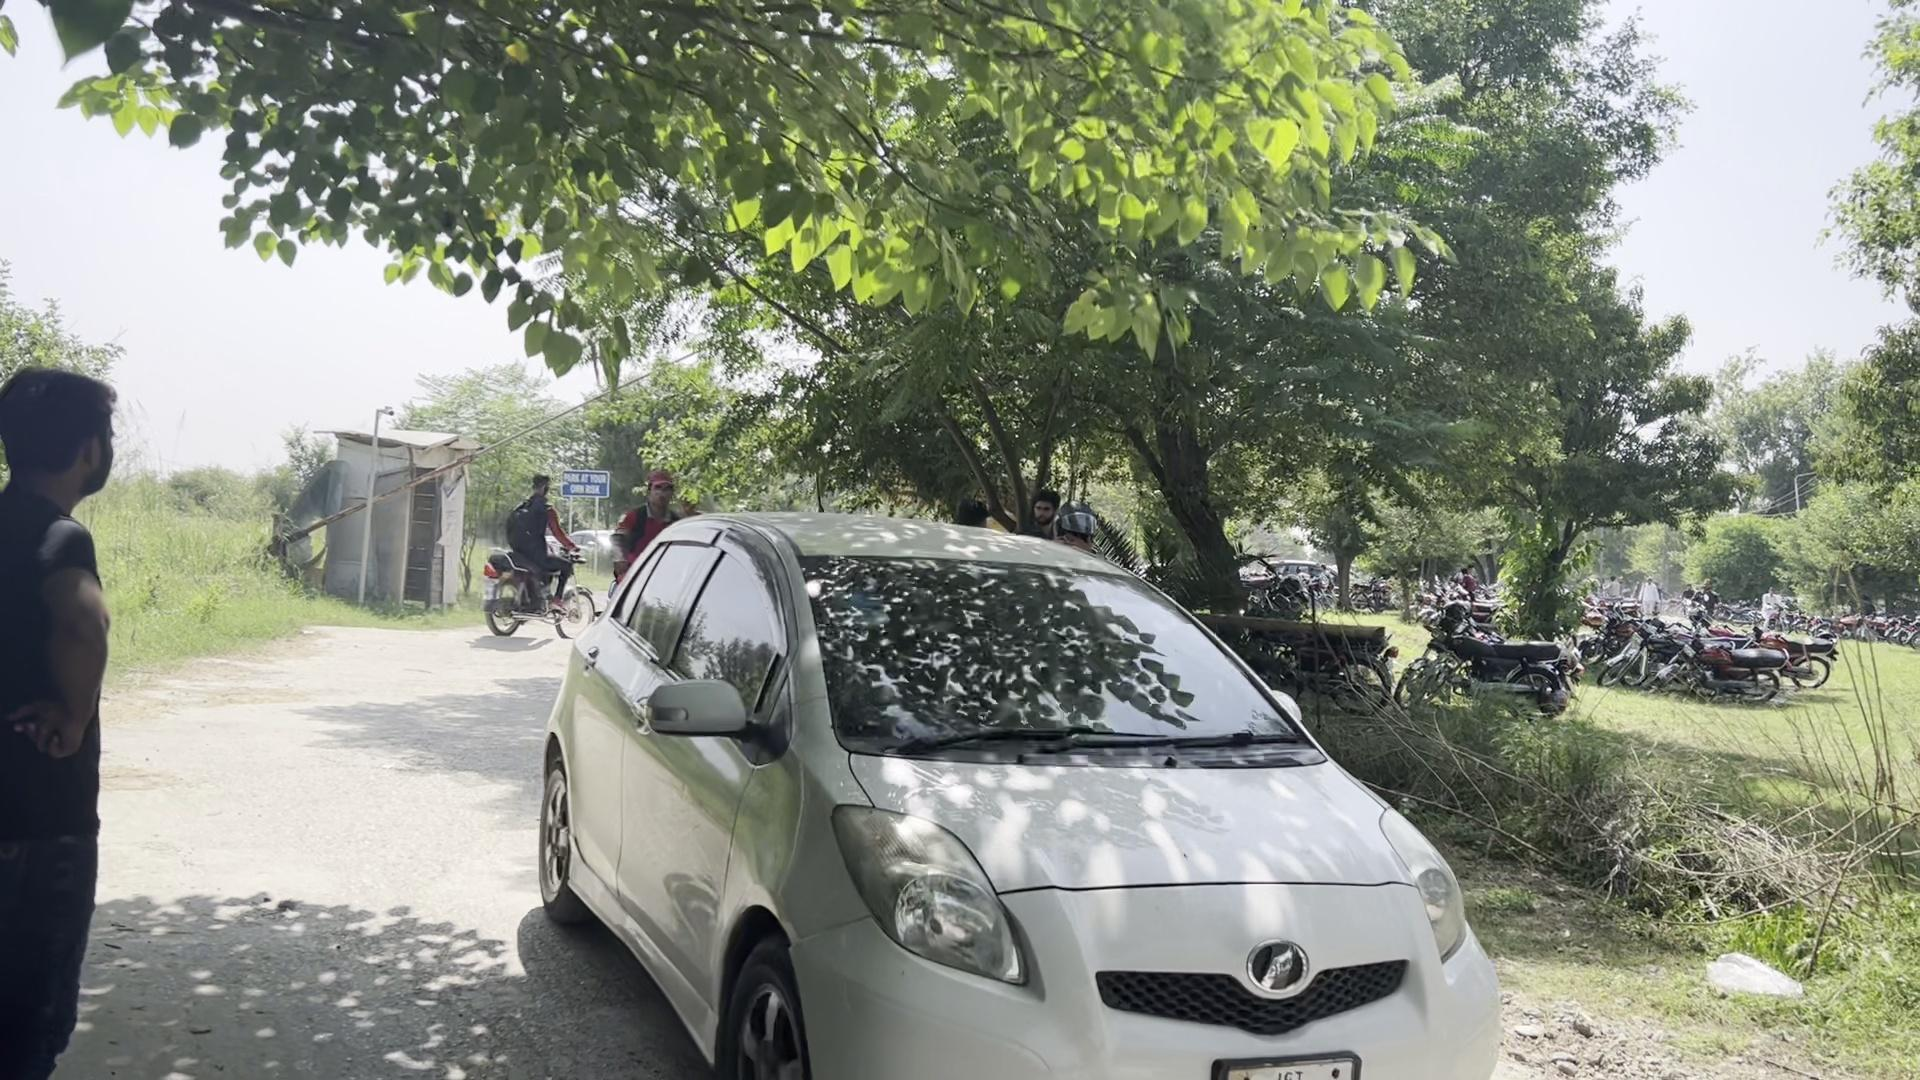windshield: (787, 547, 1320, 787)
